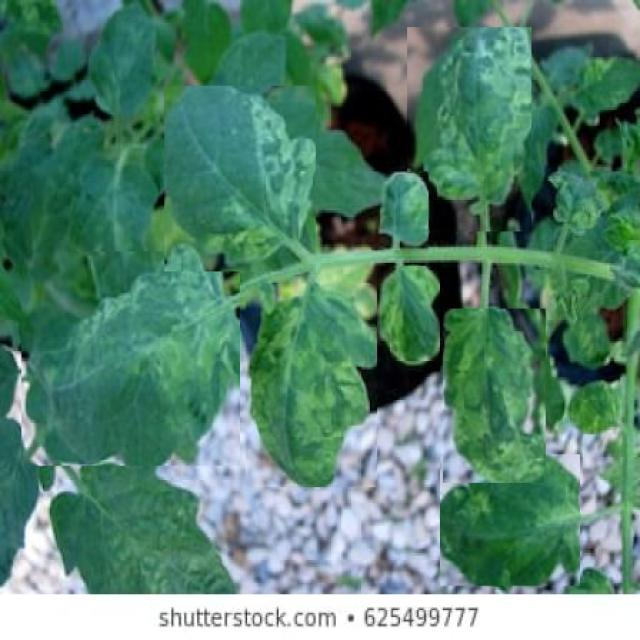Mosaic Virus: (21, 251, 240, 466), (164, 85, 316, 272), (245, 283, 378, 487), (407, 27, 532, 232), (440, 455, 580, 585), (443, 308, 546, 483), (378, 265, 440, 372), (372, 172, 428, 252)
